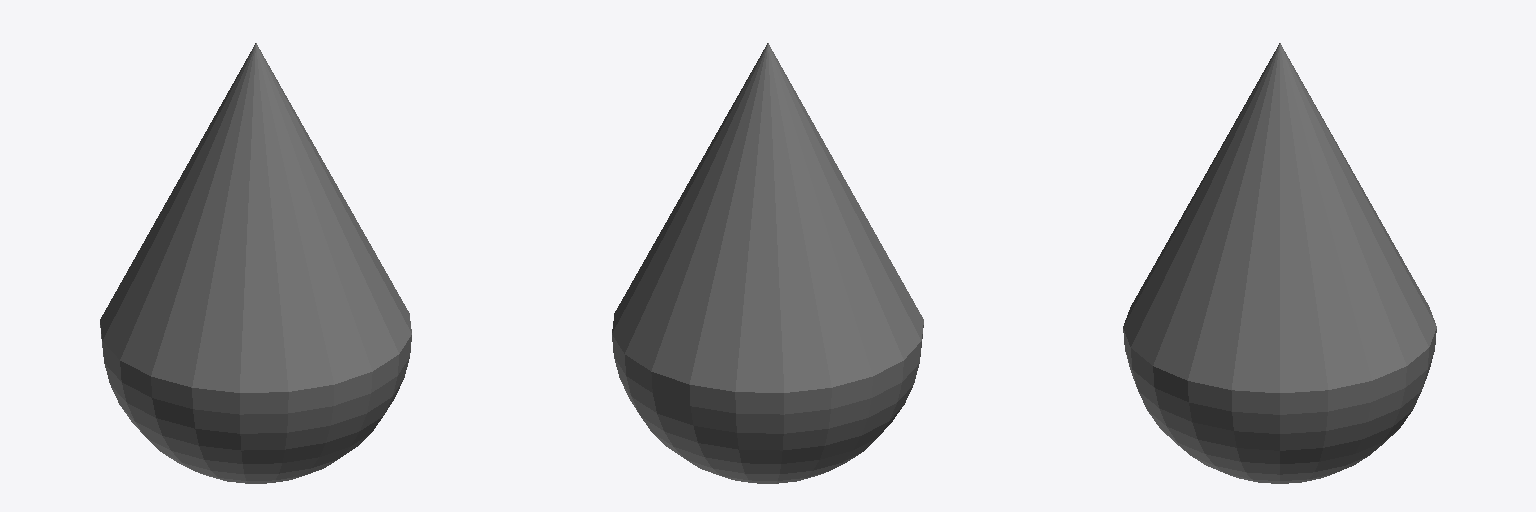
File: teardrop.obj
The picture shows the model from 3 angles: view 1: azimuth 30°, elevation 25°; view 2: azimuth 150°, elevation 25°; view 3: azimuth 270°, elevation 25°; orthographic projection.
Parts seen in each view (by area): view 1: teardrop:pCone1, teardrop:pSphere1; view 2: teardrop:pCone1, teardrop:pSphere1; view 3: teardrop:pCone1, teardrop:pSphere1.
Part boxes in pixels (x1,y1,x2,y2): teardrop:pCone1: (100,43,411,392); teardrop:pSphere1: (100,325,411,483); teardrop:pCone1: (612,43,923,392); teardrop:pSphere1: (612,325,923,483); teardrop:pCone1: (1123,43,1436,392); teardrop:pSphere1: (1123,329,1436,483).
Size of the model in its own units: 0.2645 by 0.3968 by 0.2645.